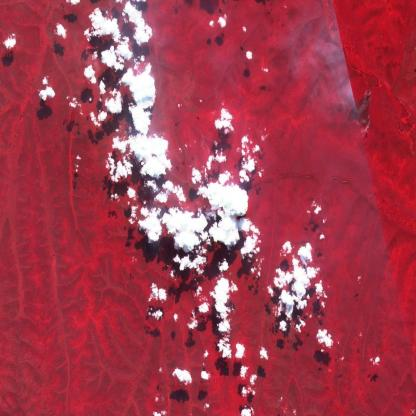fire: (351, 89, 374, 137), (144, 232, 164, 262)
